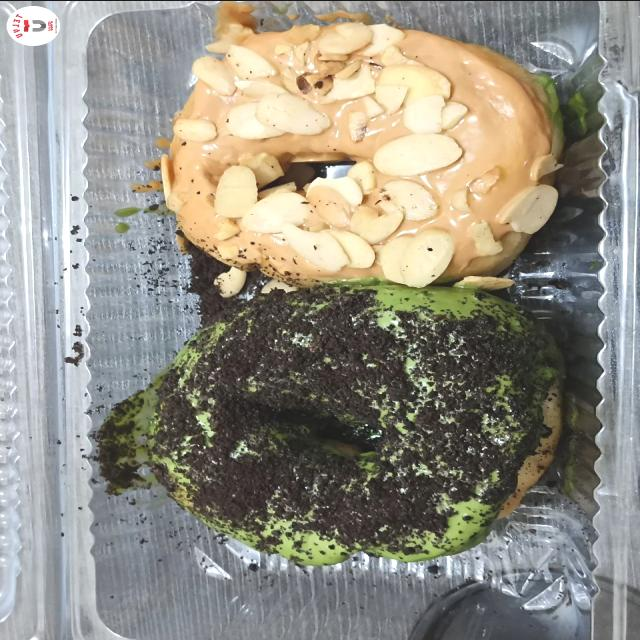donat: (92, 280, 571, 566), (155, 0, 602, 292)
